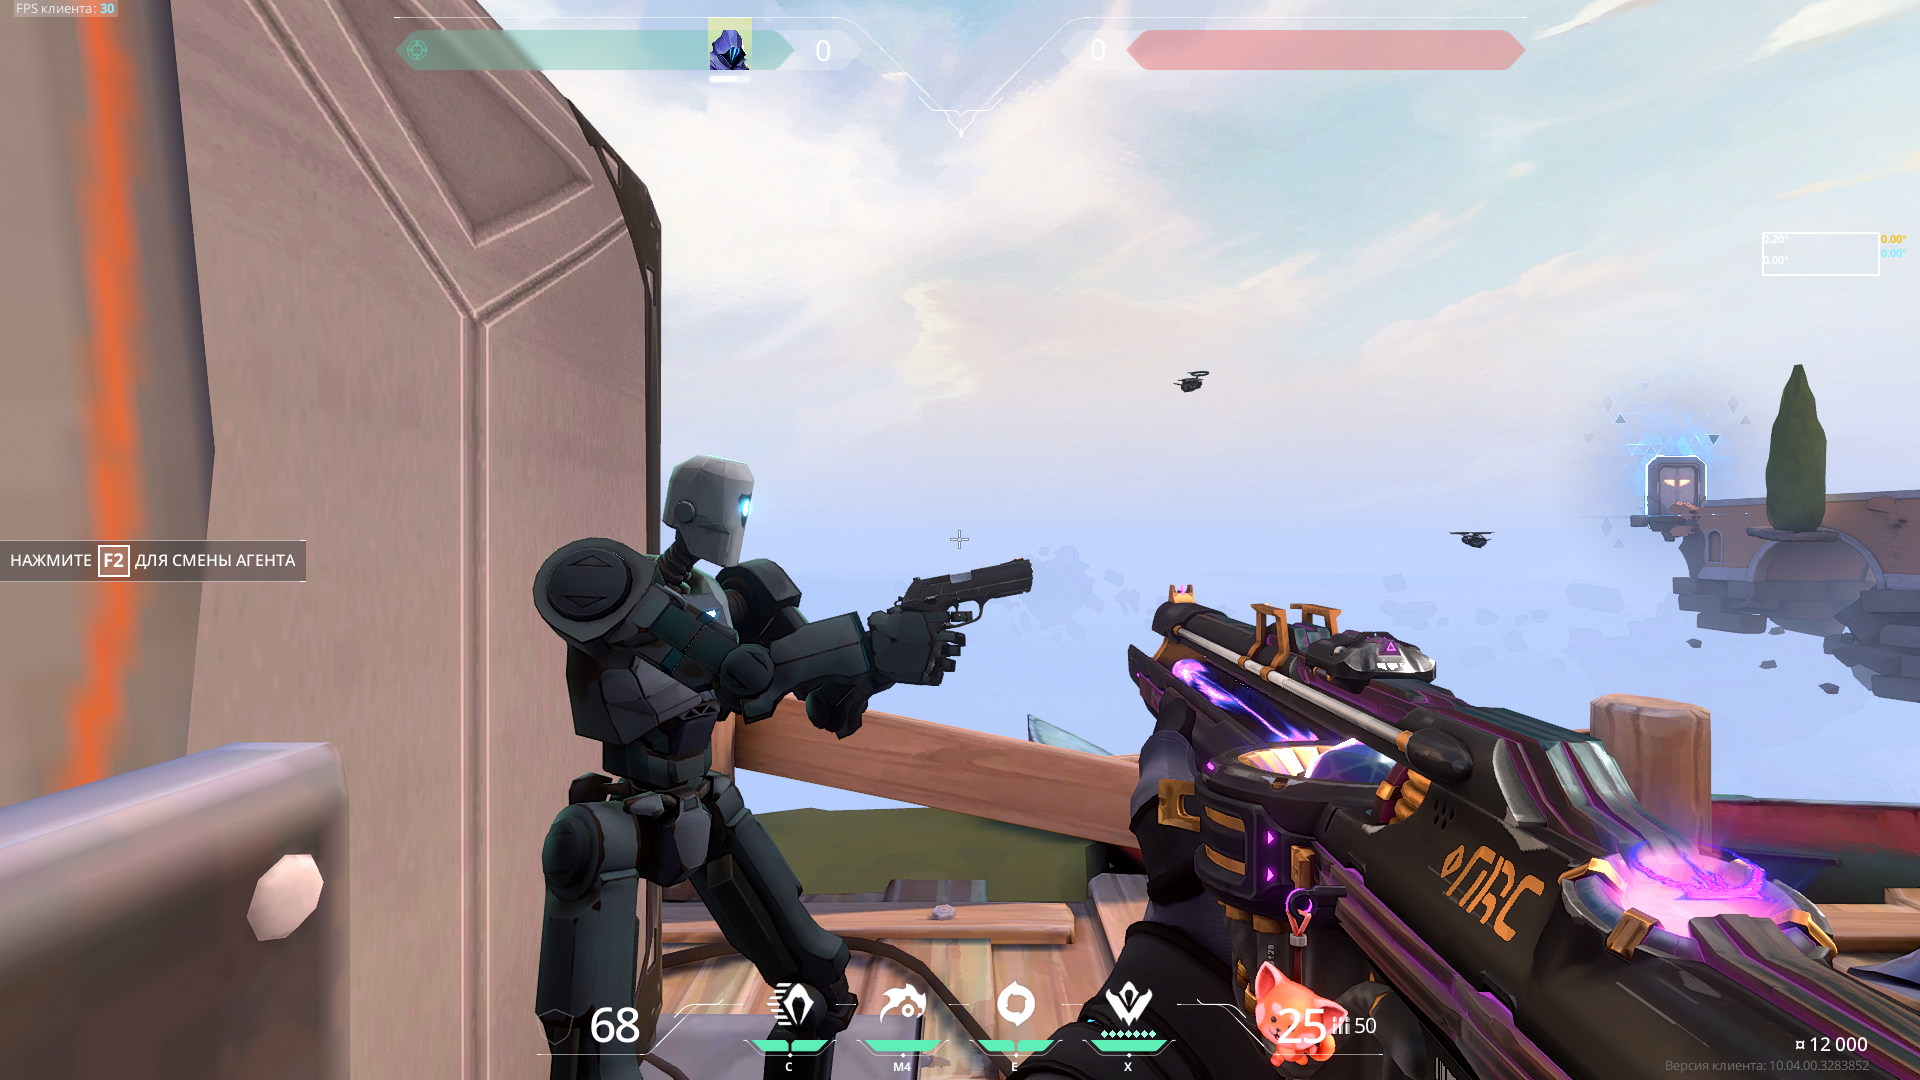head: (662, 455, 755, 567)
